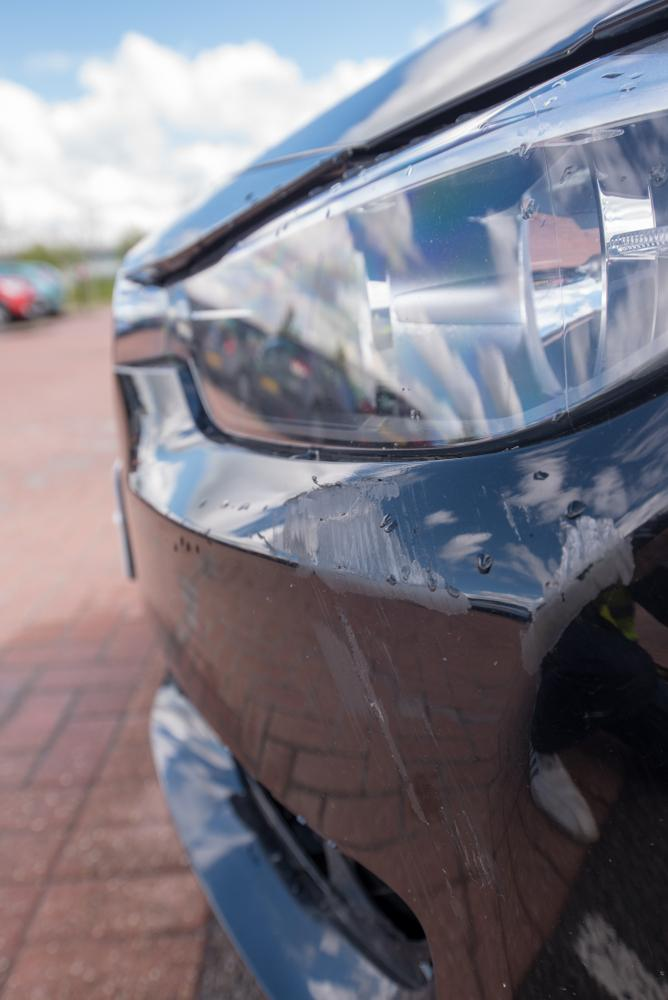scratch: (260, 465, 641, 938)
